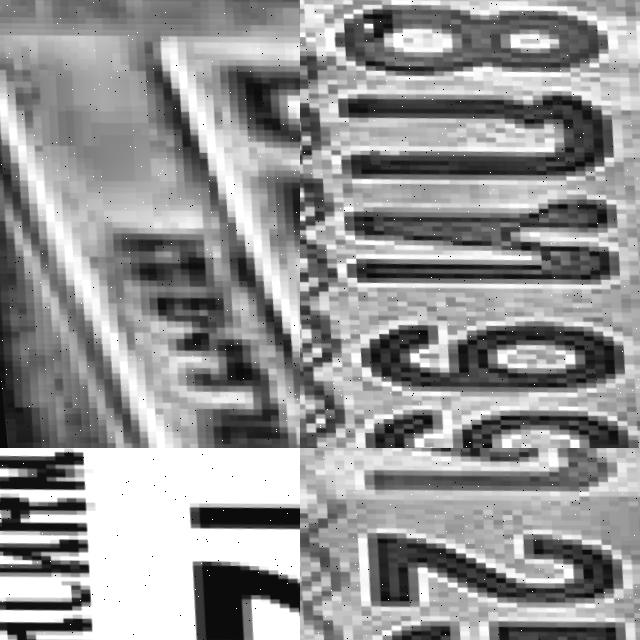license-plate: (300, 0, 640, 448), (0, 0, 300, 448), (300, 448, 640, 640), (0, 448, 300, 640)
